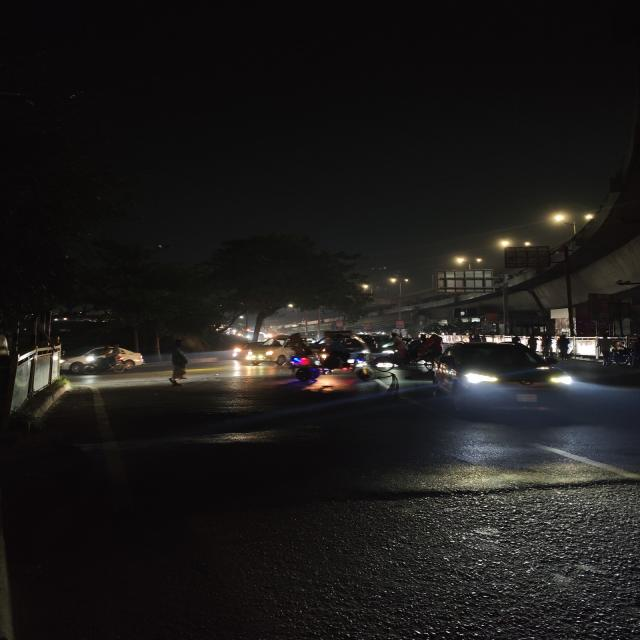car: (431, 341, 566, 419), (65, 340, 144, 380), (248, 337, 285, 371)
motorcycle: (82, 354, 134, 375)
pedestrian: (164, 338, 190, 391), (594, 335, 614, 366)
rickshaw: (292, 335, 371, 388), (384, 339, 436, 374)
